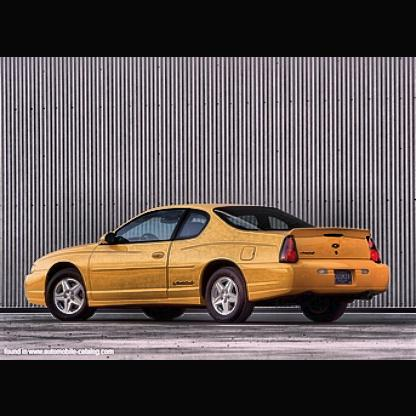Chevrolet Monte Carlo Coupe 2007: (23, 200, 395, 324)
